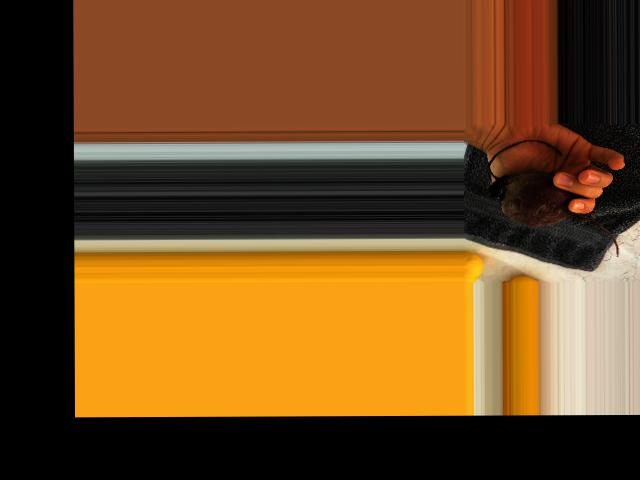beet: (489, 139, 618, 257)
